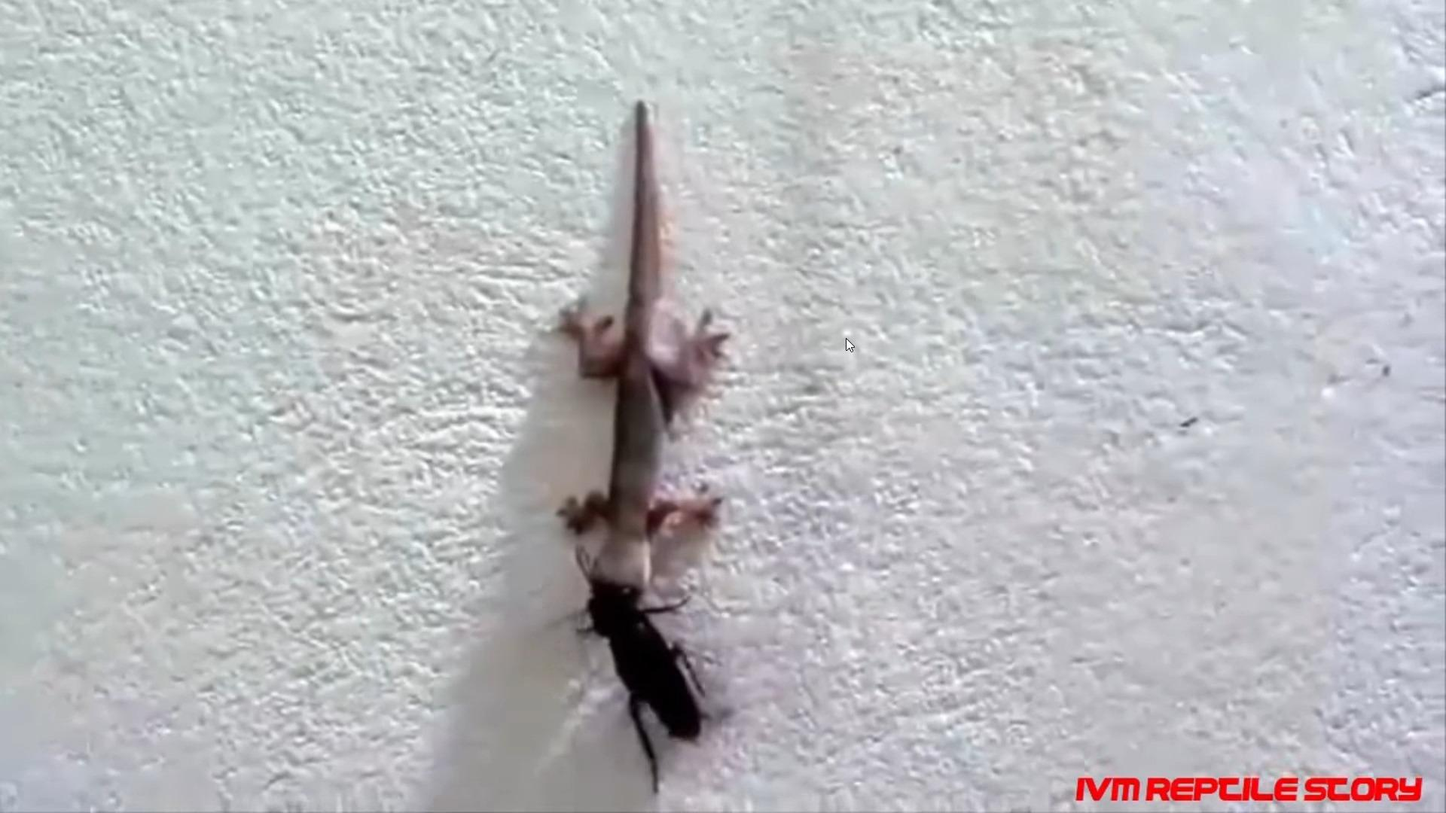cockroach: (578, 573, 707, 751)
lizard: (538, 106, 743, 611)
